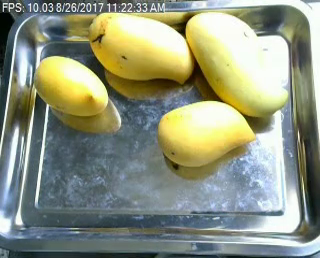Mango: (184, 11, 289, 117), (89, 12, 194, 81), (158, 100, 256, 166), (33, 55, 109, 116)
